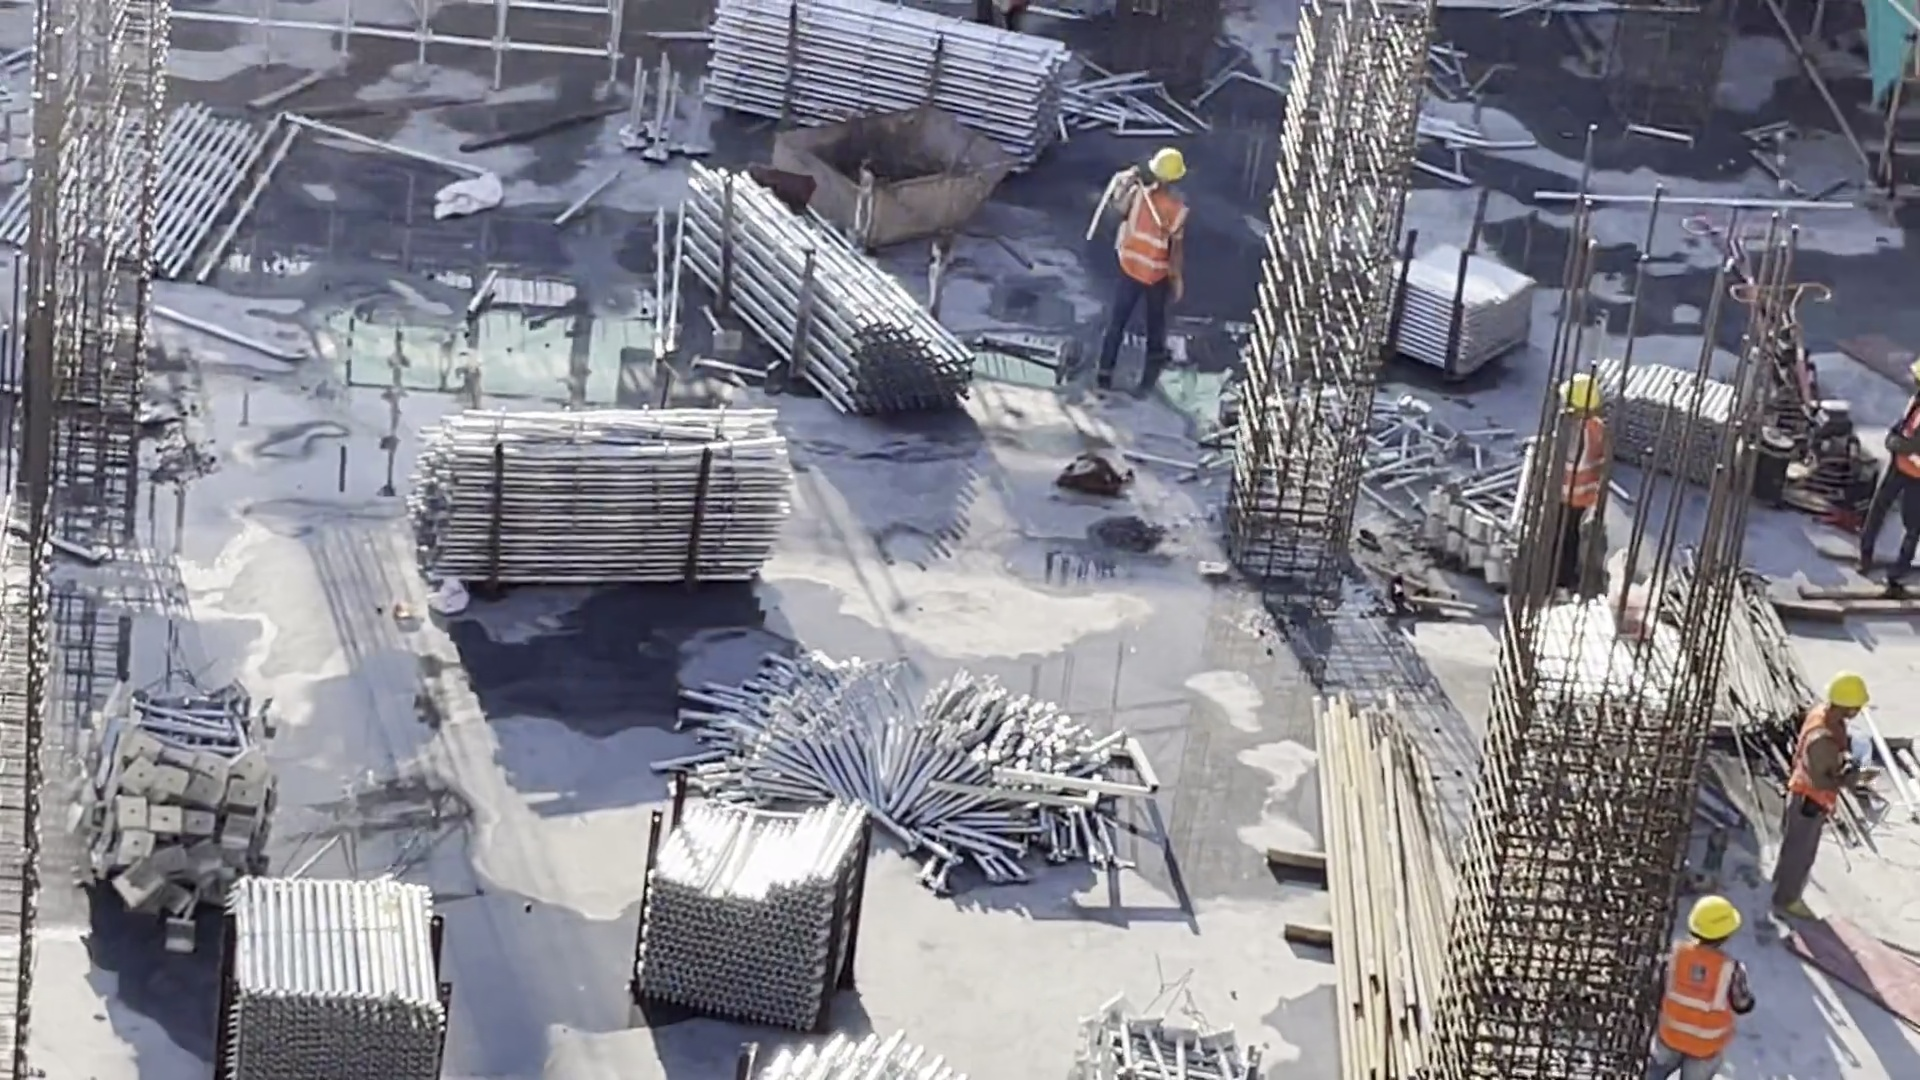helmet: (1689, 894, 1749, 943), (1823, 675, 1874, 712), (1564, 368, 1600, 417), (1154, 150, 1191, 178)
hopper: (769, 95, 1019, 257)
person: (1088, 127, 1192, 391), (1785, 675, 1856, 943), (1660, 894, 1753, 1080), (1860, 353, 1920, 606), (1537, 375, 1612, 580)
scaffold: (713, 628, 1140, 878), (685, 161, 978, 424), (425, 416, 795, 595), (64, 666, 264, 946), (713, 2, 1101, 140), (230, 879, 459, 1075), (637, 798, 843, 1002), (1364, 238, 1544, 354), (1613, 346, 1758, 484), (720, 1018, 986, 1080), (1077, 994, 1255, 1080)
vest: (1665, 945, 1744, 1040), (1793, 705, 1849, 822), (1550, 420, 1613, 516), (1115, 188, 1179, 281), (1886, 394, 1920, 477)
